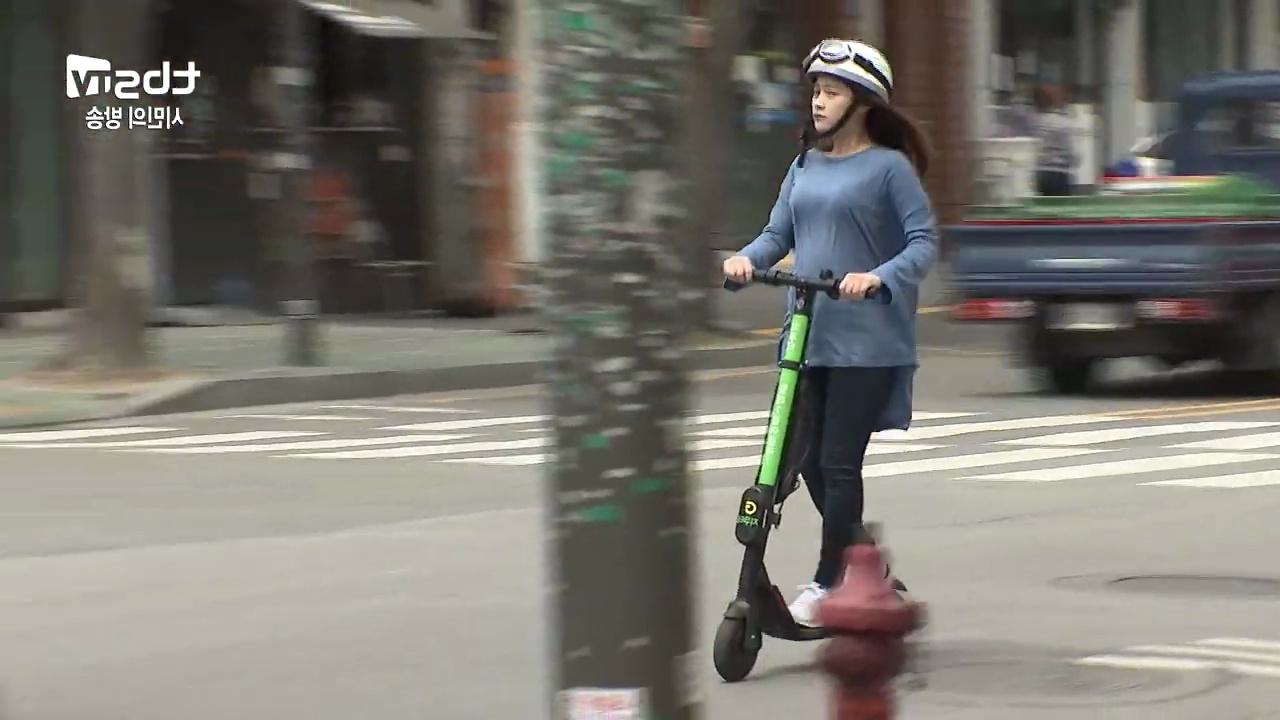helmet: (706, 33, 940, 686)
